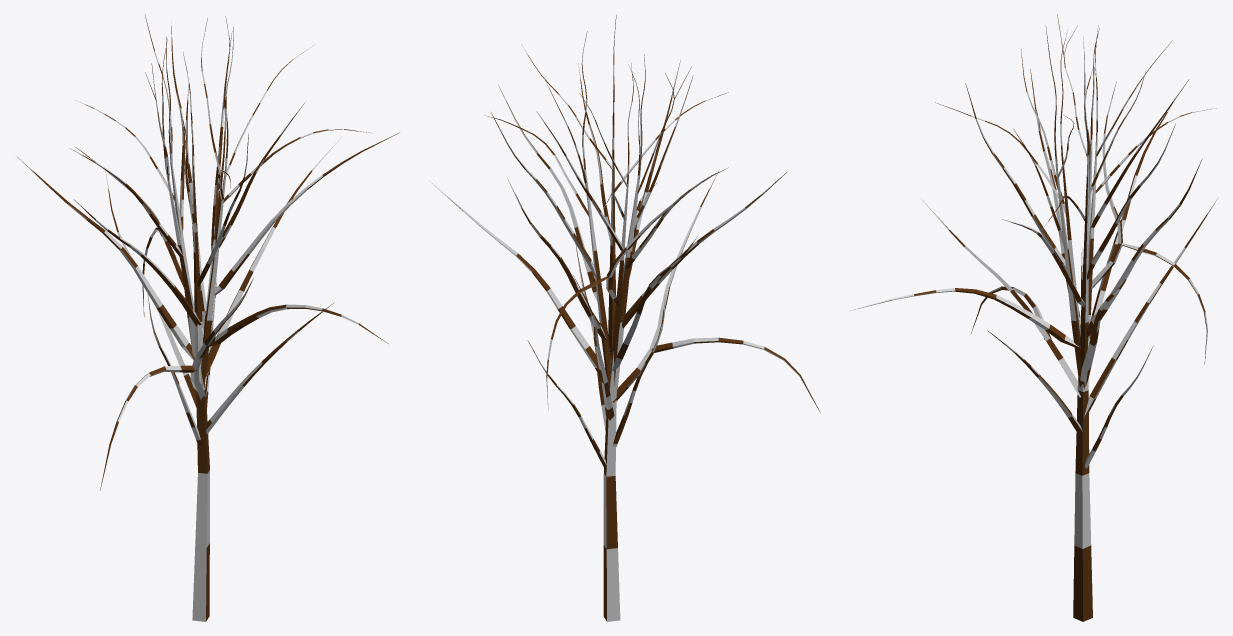
File: Tree_30.fbx
3 renders of one model, left to right at view 1: azimuth 30°, elevation 25°; view 2: azimuth 150°, elevation 25°; view 3: azimuth 270°, elevation 25°, orthographic. The views are drawn at different scales.
Parts seen in each view (by area): view 1: Tree_30; view 2: Tree_30; view 3: Tree_30.
Boxes of the visible parts, <box> form: Tree_30: <box>15,14,399,621</box>; Tree_30: <box>429,15,820,621</box>; Tree_30: <box>850,14,1218,621</box>.
Bounding box in the file's own units: 376 × 672 × 376.
